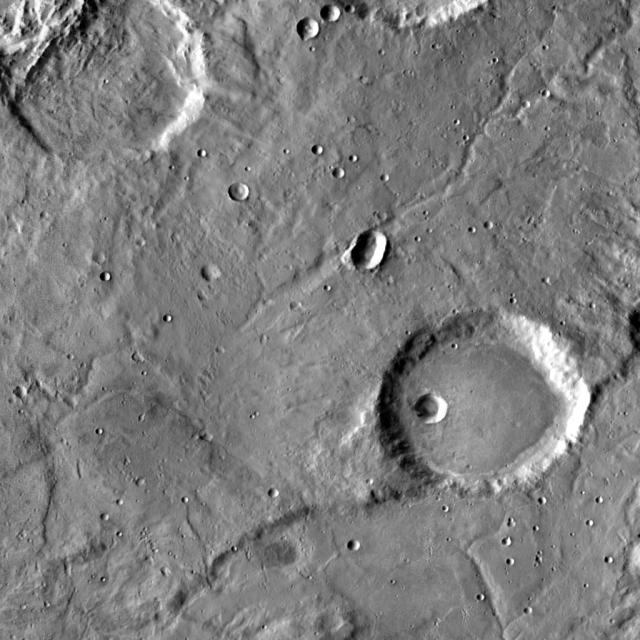crater: (386, 313, 592, 497), (7, 0, 214, 170), (420, 395, 455, 425), (358, 243, 388, 271), (364, 232, 394, 258), (303, 22, 326, 42), (235, 184, 257, 204), (328, 7, 348, 24), (208, 267, 226, 283), (21, 390, 35, 402), (339, 170, 352, 182), (354, 541, 366, 553), (99, 256, 112, 266), (208, 434, 220, 444), (489, 222, 500, 232), (383, 213, 394, 223), (203, 293, 213, 303), (138, 355, 149, 364), (217, 0, 230, 7), (353, 6, 363, 15), (276, 491, 285, 500), (143, 240, 153, 248), (106, 276, 115, 284), (320, 149, 329, 157), (356, 156, 365, 164), (483, 596, 492, 604), (366, 78, 375, 86), (296, 304, 305, 312), (141, 481, 151, 488), (204, 151, 212, 159), (550, 92, 558, 100), (187, 498, 195, 506), (585, 514, 593, 522), (46, 214, 55, 221), (177, 237, 186, 244), (388, 175, 396, 182), (510, 541, 518, 548), (100, 509, 108, 516), (529, 103, 537, 110), (354, 117, 362, 124), (515, 523, 523, 530), (94, 424, 101, 431), (475, 228, 482, 235), (15, 399, 22, 406), (169, 318, 177, 324), (606, 552, 614, 558), (531, 610, 539, 616), (330, 286, 338, 292), (597, 493, 604, 499), (216, 343, 223, 349), (414, 232, 421, 238), (541, 271, 548, 277), (115, 494, 122, 500), (442, 500, 448, 506)
